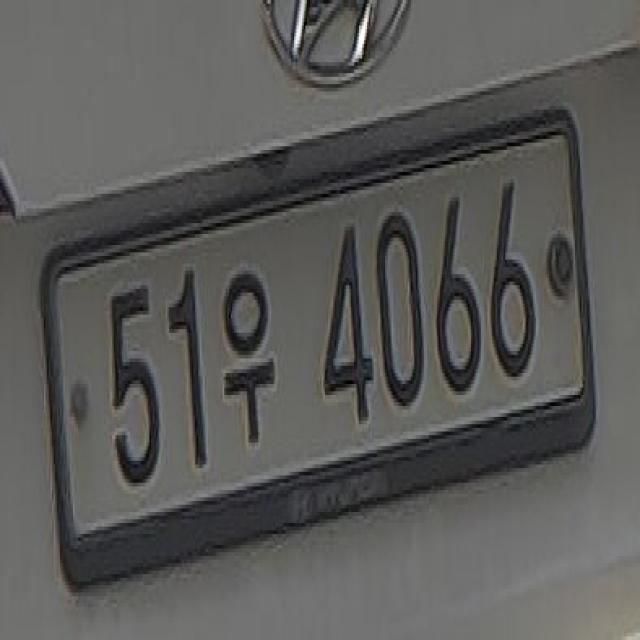plat: (38, 102, 597, 588)
